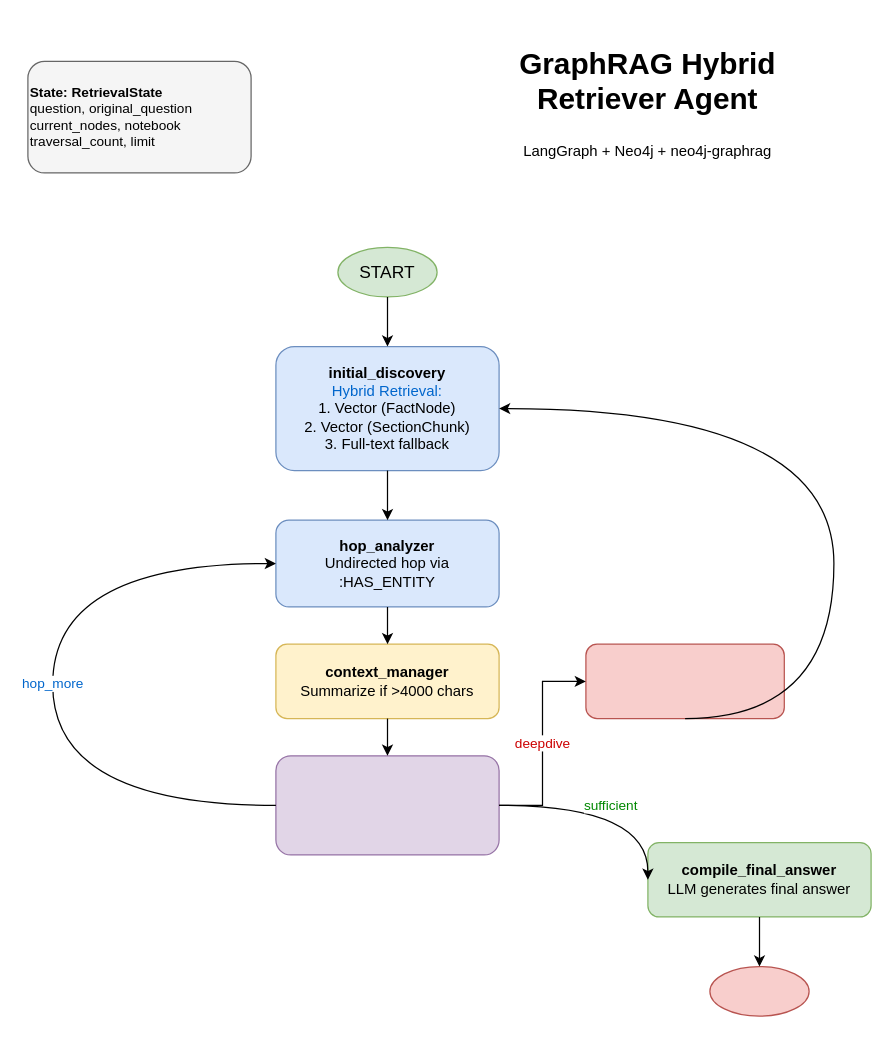
Image size: 893x1038. Some labels were removed from this diagram. Here are the shapes that lost their labels. From the top down, the box of each, then its label:
(585, 643, 784, 719): replan_query LLM creates new query
(275, 755, 499, 855): evaluate_answer LLM decides: sufficient / hop_more / deepdive
(709, 965, 809, 1016): END
